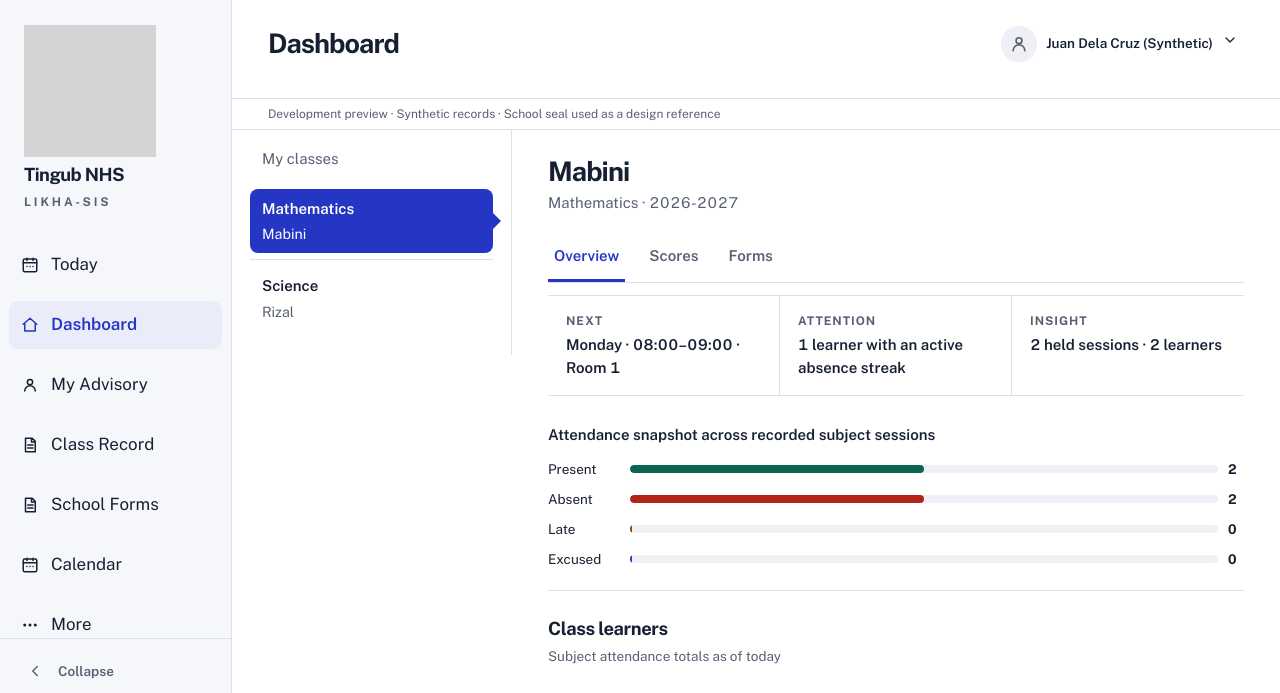
Test case: DevPreviewApp — new fixture destinations render › renders Teacher Load via More
Click the button "More".
click(116, 625)  # box [9, 601, 222, 649]
(page scrolled)
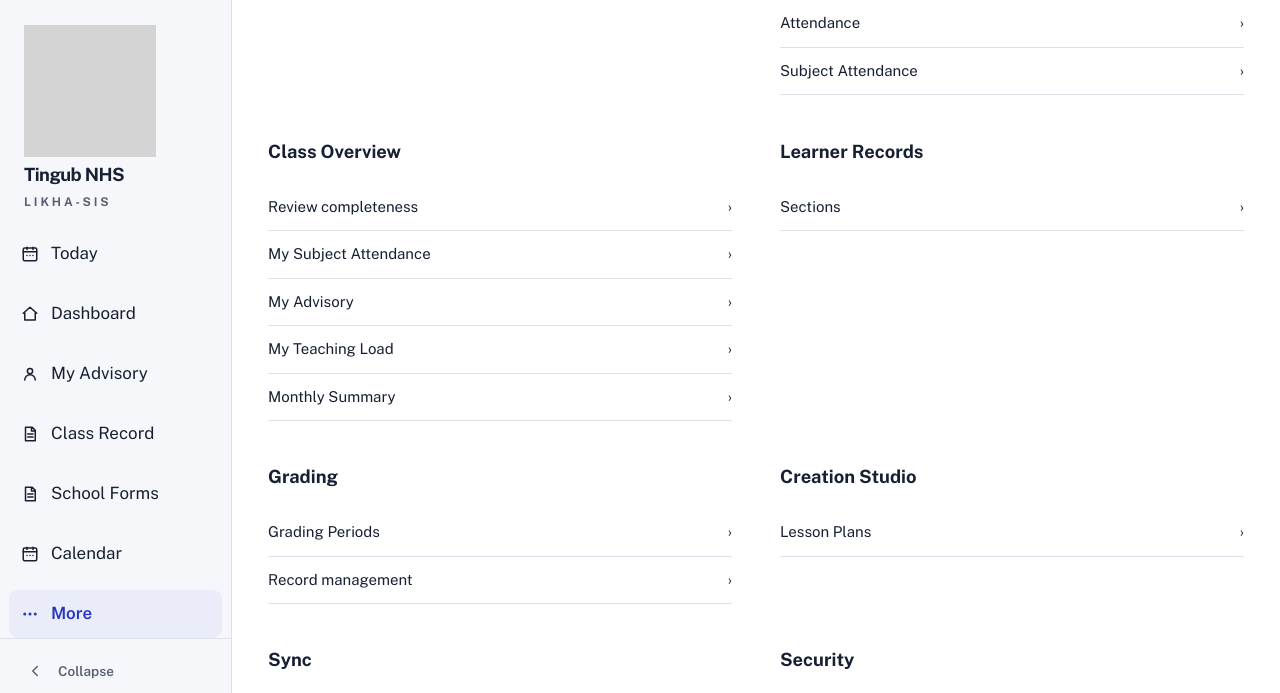
Click the button "My Teaching Load ›".
click(331, 348)  # box [268, 326, 732, 374]
(page scrolled)
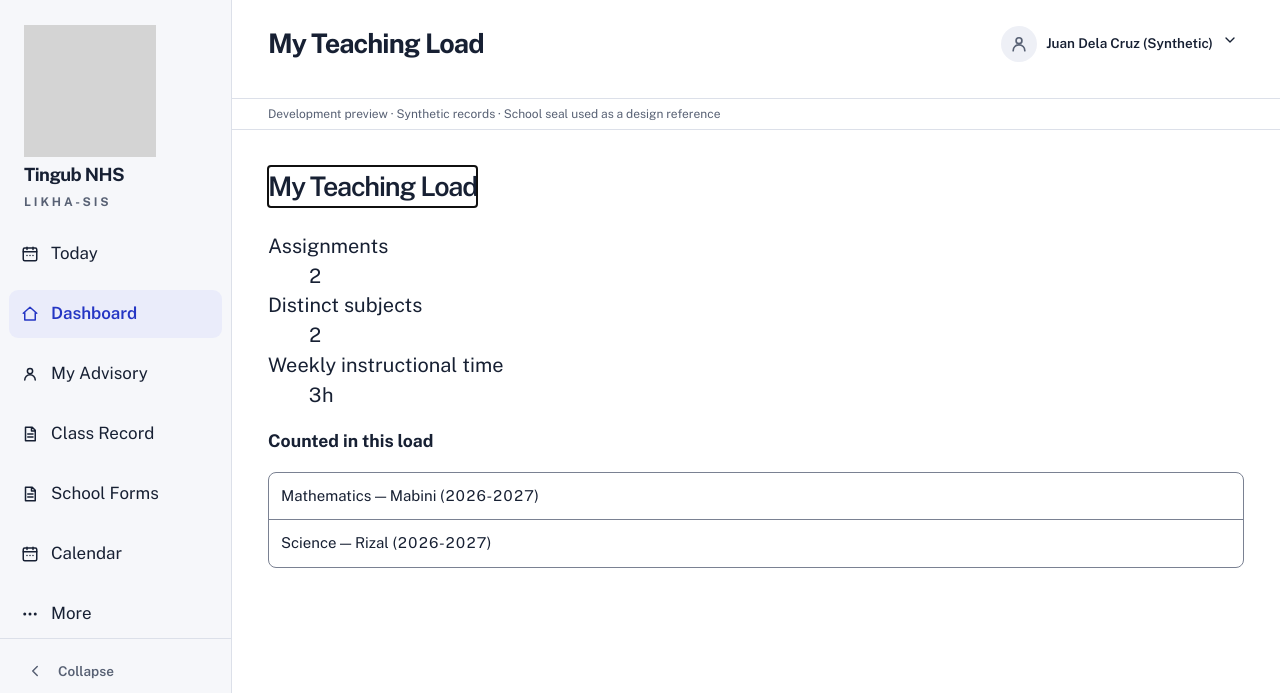
Expected: the heading "My Teaching Load" is shown, [268, 166, 477, 206]
